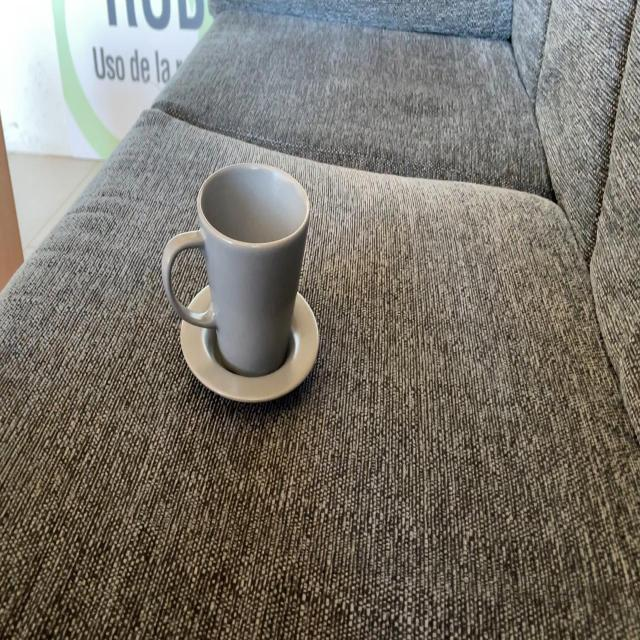cup: (170, 163, 318, 393)
